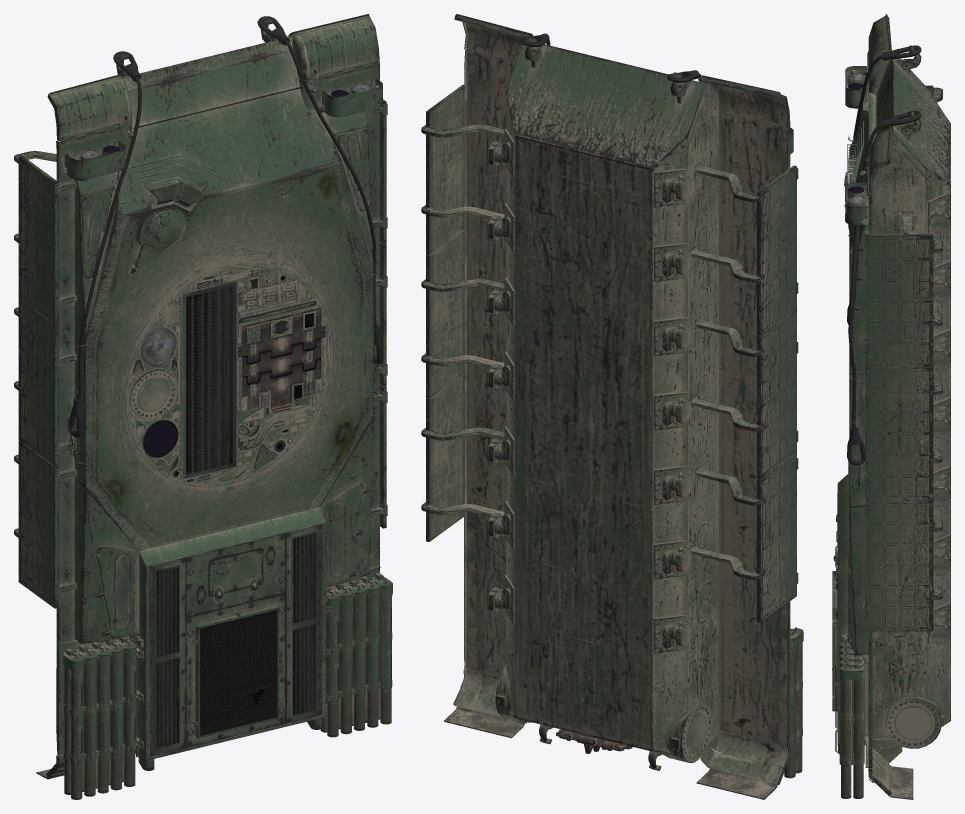
File: Hull.glb
The picture shows the model from 3 angles, left to right: view 1: azimuth 30°, elevation 25°; view 2: azimuth 150°, elevation 25°; view 3: azimuth 270°, elevation 25°; orthographic projection. The views are drawn at different scales.
Parts seen in each view (by area): view 1: set_0_group_0; view 2: set_0_group_0; view 3: set_0_group_0.
Part boxes in pixels (box(x1,y1,x2,y2)): set_0_group_0: box(14, 14, 392, 799); set_0_group_0: box(421, 14, 803, 799); set_0_group_0: box(832, 14, 950, 799).
Size of the model in its own units: 3.71 by 7.39 by 1.23.
1 material, 1 textured.
